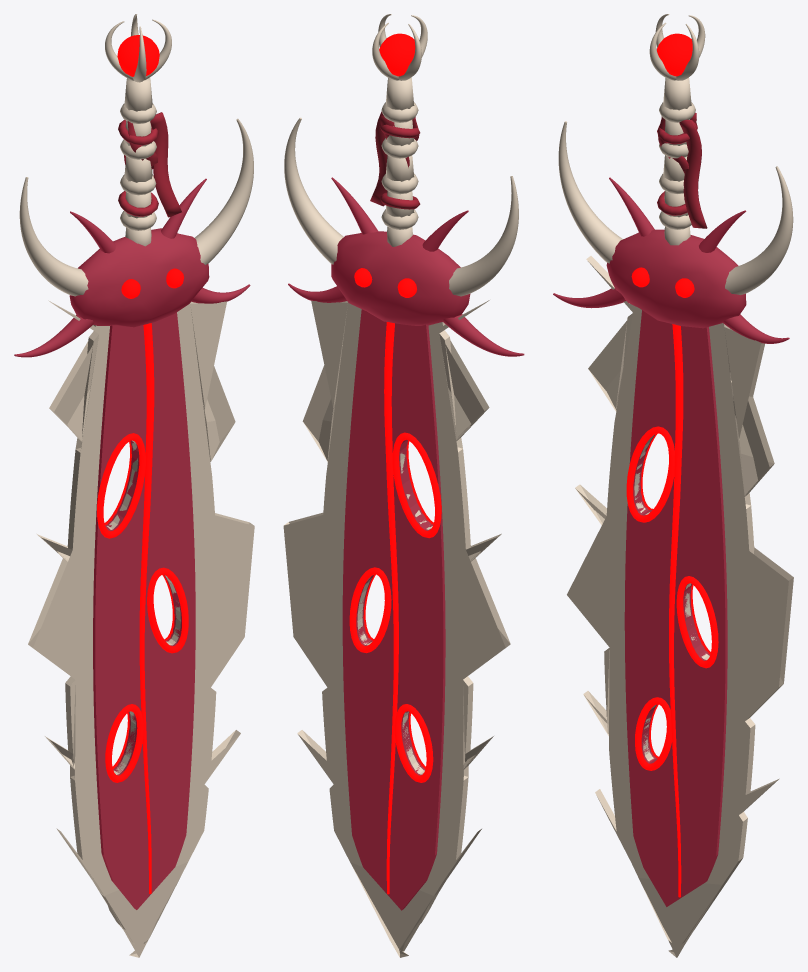
The model's file is demon_sword.glb.
3 renders of one model, left to right at view 1: azimuth 30°, elevation 25°; view 2: azimuth 150°, elevation 25°; view 3: azimuth 330°, elevation 25°, orthographic.
Visible parts, largest first — view 1: blade_rim, blade_core, guard, veinTrue, horn0, horn1, ring0, strip0, ring1, ring2, orb, horn3 (+5 smaller); view 2: blade_core, blade_rim, guard, veinFalse, horn0, horn1, ring0.001, ring1.001, ring2.001, orb, horn3, grip4 (+5 smaller); view 3: blade_core, blade_rim, guard, veinTrue, horn0, horn1, strip0, ring0, ring1, ring2, orb, grip4 (+4 smaller).
Part boxes in pixels (box(x1,y1,x2,y2)): blade_rim: box(28, 300, 254, 957); blade_core: box(93, 312, 195, 909); guard: box(69, 228, 209, 327); veinTrue: box(139, 323, 154, 893); horn0: box(194, 118, 253, 264); horn1: box(19, 177, 88, 296); ring0: box(97, 433, 145, 538); strip0: box(150, 112, 181, 217); ring1: box(147, 567, 188, 653); ring2: box(105, 704, 143, 782); orb: box(117, 35, 159, 76); horn3: box(14, 315, 93, 357); blade_core: box(342, 309, 445, 910); blade_rim: box(283, 300, 510, 957); guard: box(331, 231, 470, 325); veinFalse: box(384, 322, 398, 894); horn0: box(284, 117, 343, 264); horn1: box(449, 176, 518, 296); ring0.001: box(392, 432, 441, 538); ring1.001: box(349, 567, 391, 653); ring2.001: box(394, 704, 433, 782); orb: box(379, 33, 415, 76); horn3: box(442, 314, 524, 356); grip4: box(386, 77, 414, 110); blade_core: box(624, 310, 727, 906); blade_rim: box(567, 256, 793, 957); guard: box(606, 229, 746, 328); veinTrue: box(669, 324, 683, 897); horn0: box(725, 166, 793, 294); horn1: box(558, 121, 622, 263); strip0: box(679, 119, 707, 228); ring0: box(626, 426, 674, 522); ring1: box(676, 576, 718, 668); ring2: box(635, 697, 671, 770); orb: box(656, 33, 692, 76); grip4: box(663, 77, 691, 110).
Bounding box in the file's own units: 0.3859 × 1.45 × 0.108.
